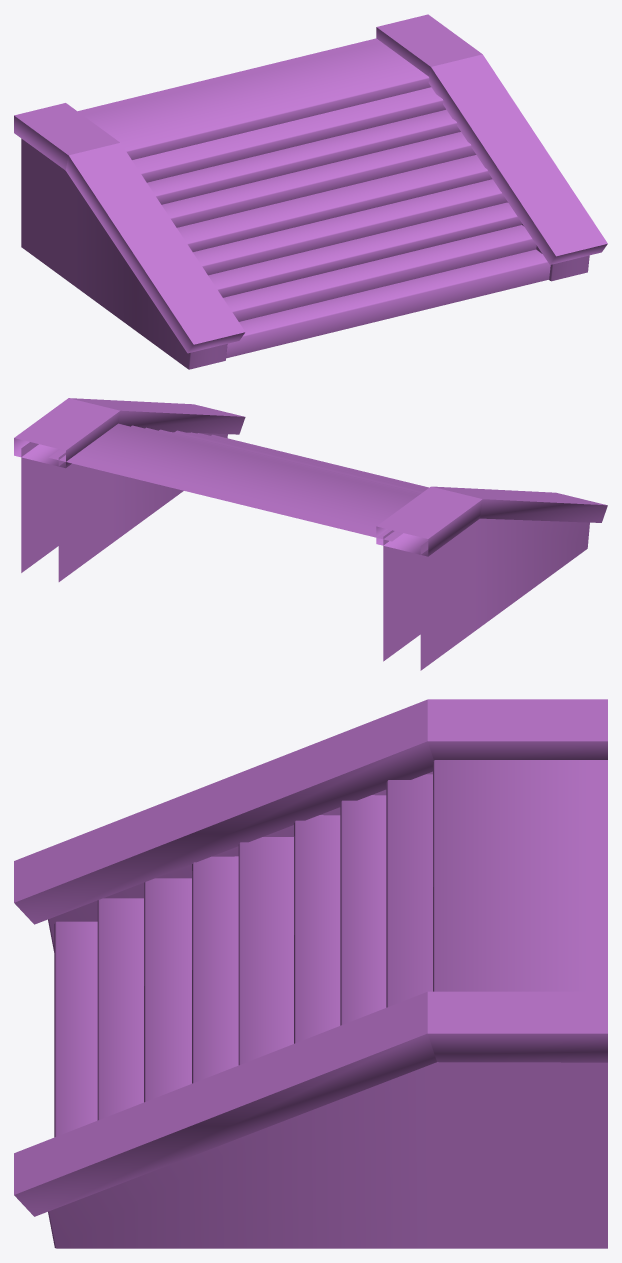
Rendered from Church1_Base_Stairs_A.fbx.
3 views of the same model, one above another, from view 1: azimuth 30°, elevation 25°; view 2: azimuth 150°, elevation 25°; view 3: azimuth 270°, elevation 25° (orthographic). The views are drawn at different scales.
Visible parts, largest first — view 1: Church1_Base_Stairs_A; view 2: Church1_Base_Stairs_A; view 3: Church1_Base_Stairs_A.
Part boxes in pixels (bbox=[...]): Church1_Base_Stairs_A: bbox=[14, 14, 607, 369]; Church1_Base_Stairs_A: bbox=[14, 398, 607, 670]; Church1_Base_Stairs_A: bbox=[14, 699, 607, 1248].
Size of the model in its own units: 3.4 by 1.05 by 2.56.
